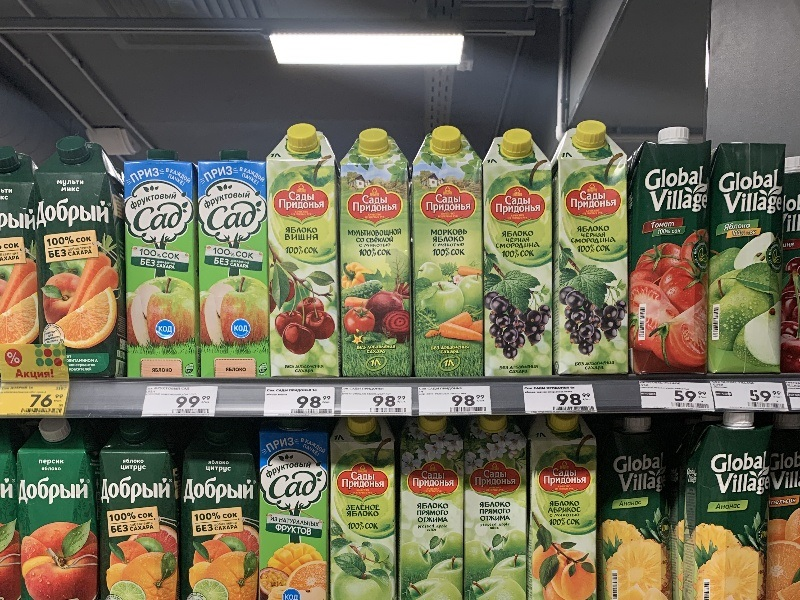juice: (22, 137, 132, 384), (255, 122, 351, 387), (544, 119, 639, 385), (107, 145, 207, 390), (186, 146, 282, 393), (330, 126, 420, 385), (625, 125, 715, 380), (477, 122, 561, 389), (407, 126, 494, 382), (679, 410, 779, 597), (14, 412, 99, 597), (524, 408, 603, 599), (325, 413, 402, 597), (394, 415, 468, 597)
